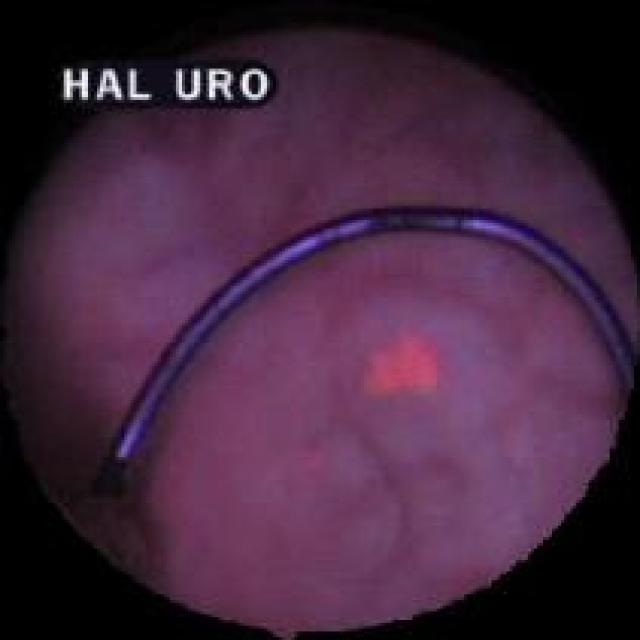color misalignment: (49, 54, 294, 122)
contrast: (15, 376, 162, 576)
instrument: (87, 203, 628, 522)
